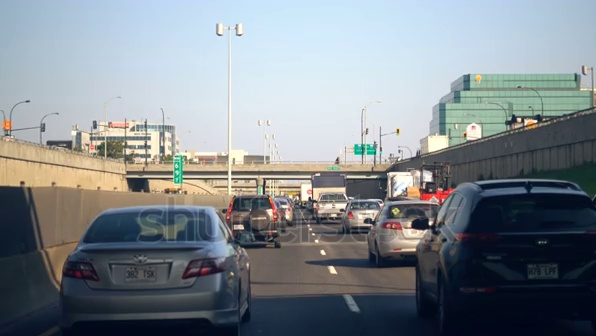licenseplate: (119, 266, 165, 284), (527, 262, 564, 279)
